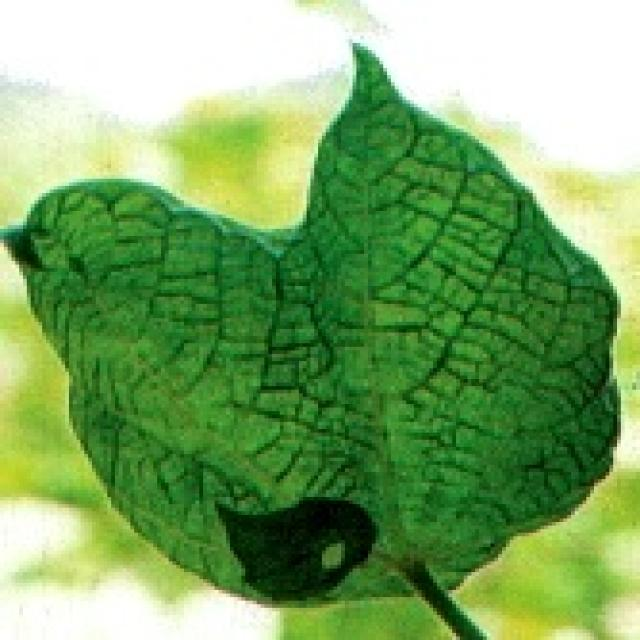Leaf Curl Virus: (100, 223, 434, 600)
